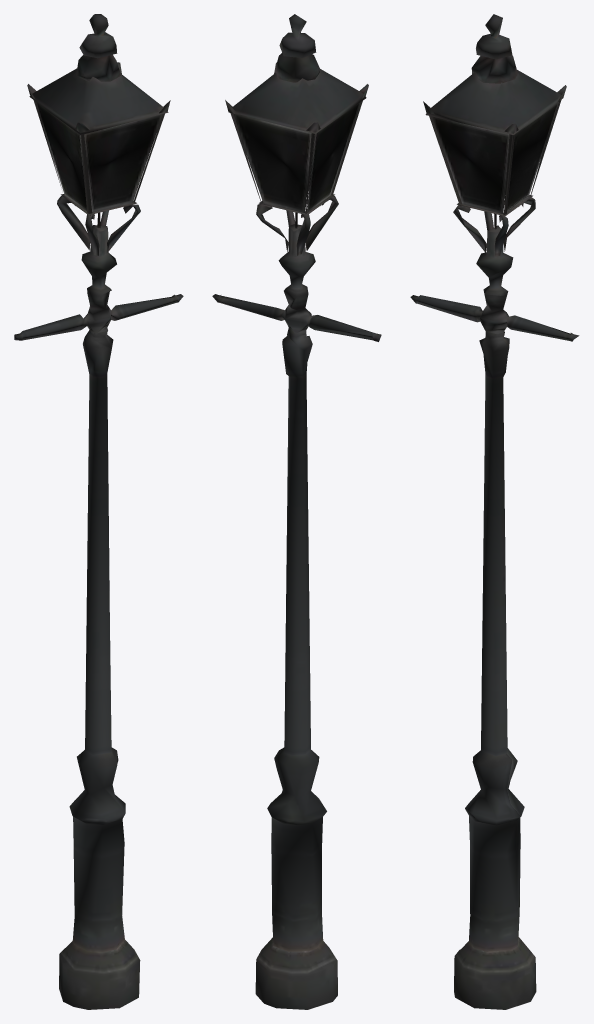
Rendered from streetlamp.glb.
3 views of the same model, side by side, from view 1: azimuth 30°, elevation 25°; view 2: azimuth 150°, elevation 25°; view 3: azimuth 330°, elevation 25° (orthographic).
Parts seen in each view (by area): view 1: street_lamp_01; view 2: street_lamp_01; view 3: street_lamp_01.
Boxes of the visible parts, x1,y1,x2,y2 form: street_lamp_01: (14, 14, 183, 1009); street_lamp_01: (212, 14, 381, 1009); street_lamp_01: (410, 14, 579, 1009).
Size of the model in its own units: 0.689 by 3.87 by 0.3841.
Materials: 2 (2 with a texture image).
